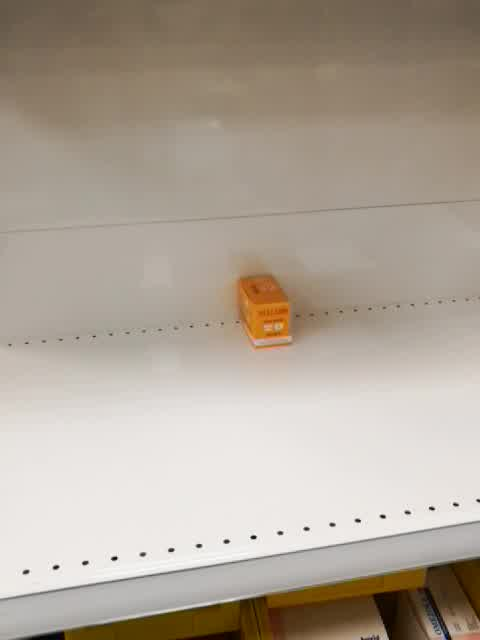jasminetea: (236, 274, 293, 349)
